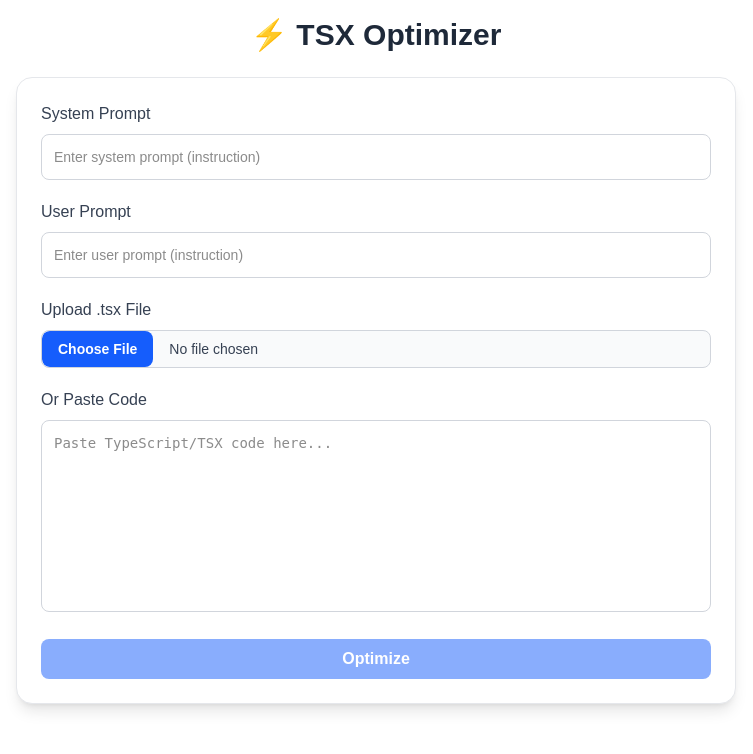
Test: CodeOptimizer › renders error message from catch block on network error
Step 1. Type "code" into the text box with placeholder "Paste TypeScript/TSX code here..." → (376, 516), box [41,420,711,612]
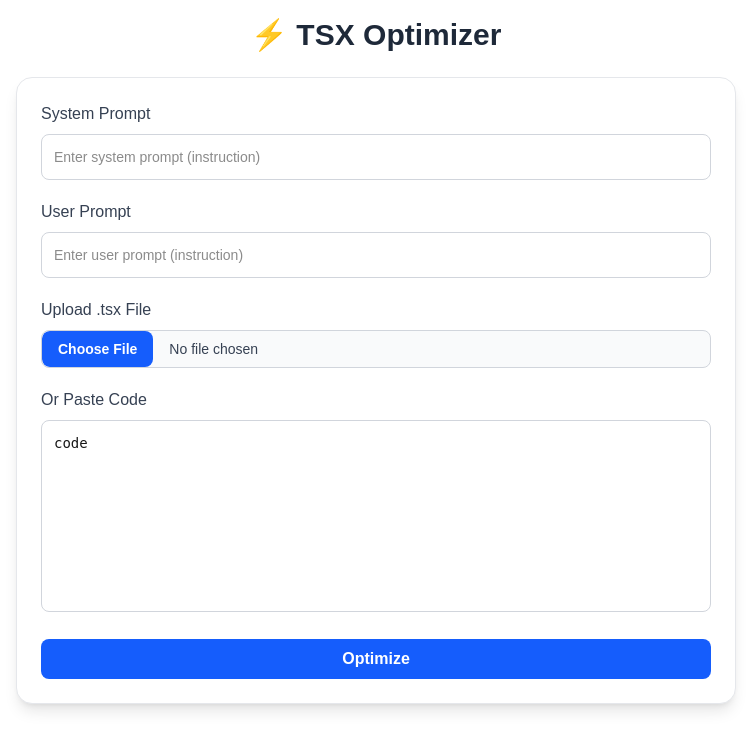
Step 2. Click the button "Optimize" → click(376, 659), box [41,639,711,679]
(page scrolled)
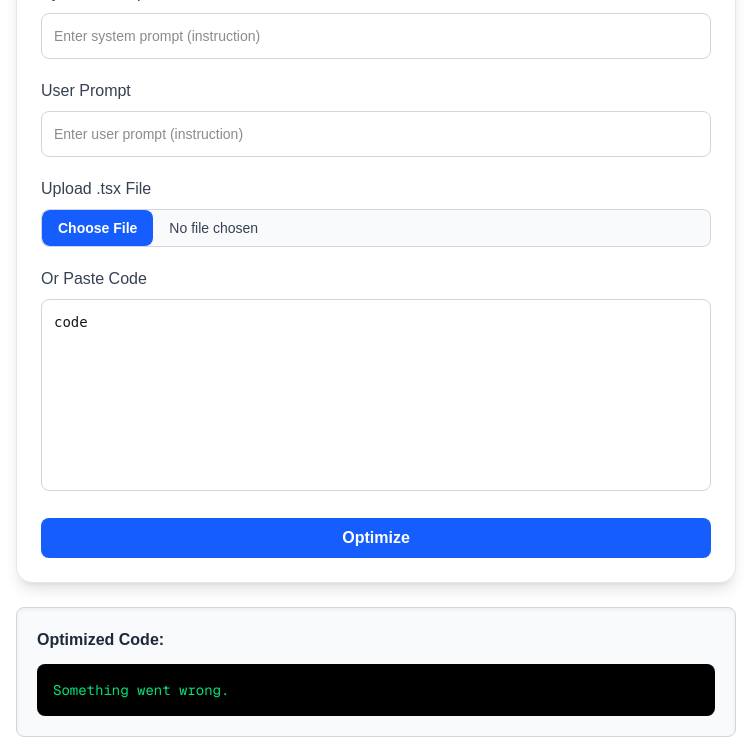
Expected: the text "Something went wrong." is shown, [37,664,715,716]
